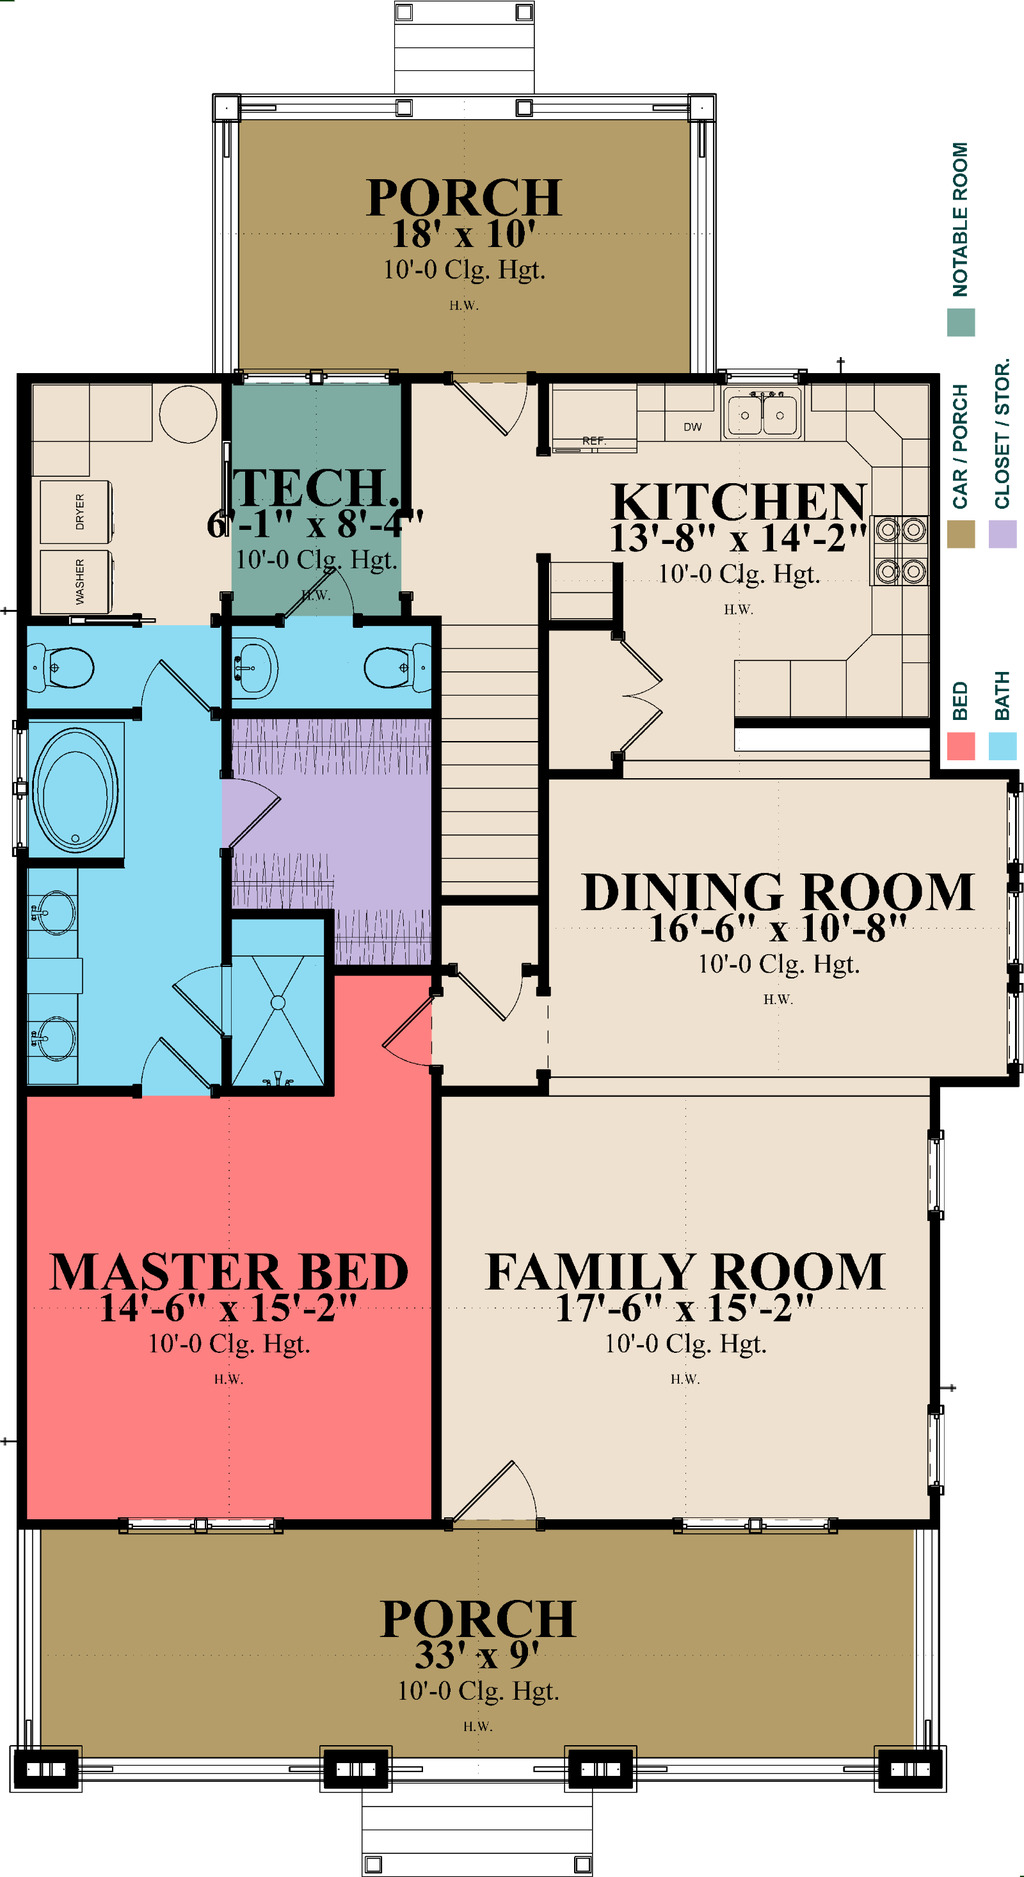door: (195, 769, 317, 869), (443, 363, 544, 471), (602, 619, 672, 763), (261, 543, 375, 632), (116, 643, 235, 722), (163, 956, 264, 1040), (129, 1027, 219, 1107), (451, 1460, 557, 1528), (449, 963, 544, 1016), (381, 987, 438, 1075)
large_sink: (8, 621, 125, 710), (340, 616, 438, 716)
small_sink: (5, 875, 108, 1066), (222, 616, 296, 729)
stairs: (440, 613, 537, 908), (381, 1, 546, 139)
tub: (19, 716, 125, 892)
twin_sink: (711, 372, 816, 460)
window: (125, 1510, 301, 1545), (668, 1516, 842, 1540)
